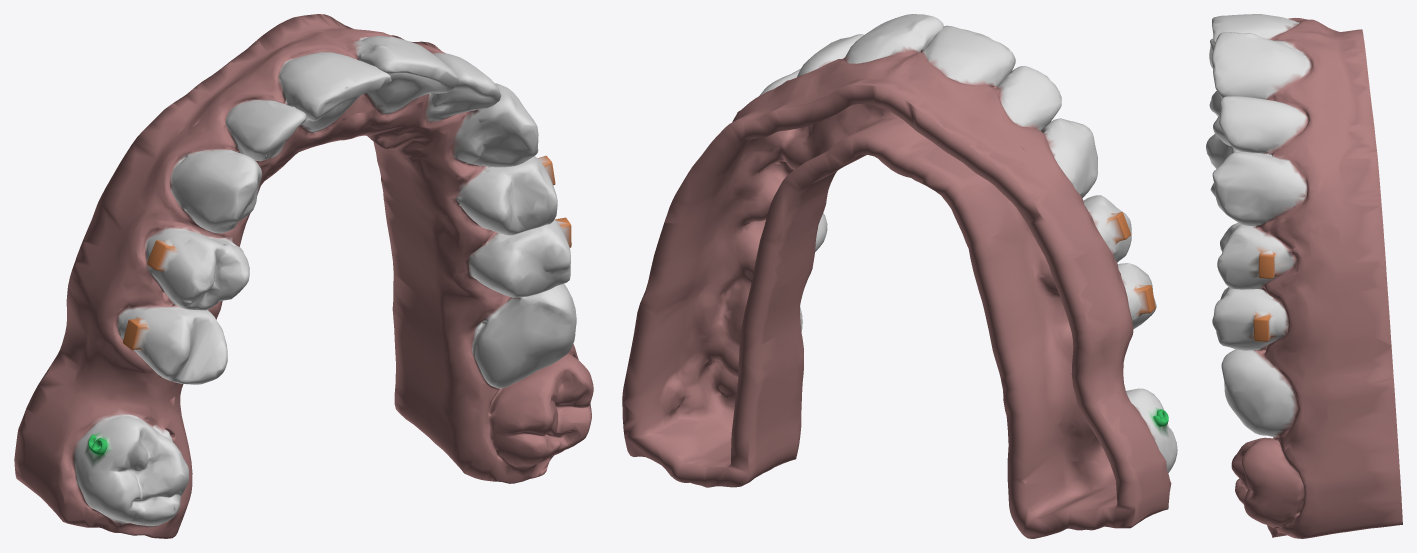
File: upper-model-6.glb
The picture shows the model from 3 angles, left to right: view 1: azimuth 30°, elevation 25°; view 2: azimuth 150°, elevation 25°; view 3: azimuth 270°, elevation 25°; orthographic projection. The views are drawn at different scales.
Parts seen in each view (by area): view 1: 6; view 2: 6; view 3: 6.
Boxes of the visible parts, x1=… form: 6: x1=14, y1=14, x2=593, y2=538; 6: x1=622, y1=14, x2=1177, y2=538; 6: x1=1206, y1=14, x2=1402, y2=538.
Size of the model in its own units: 56.99 by 49.55 by 20.58.
